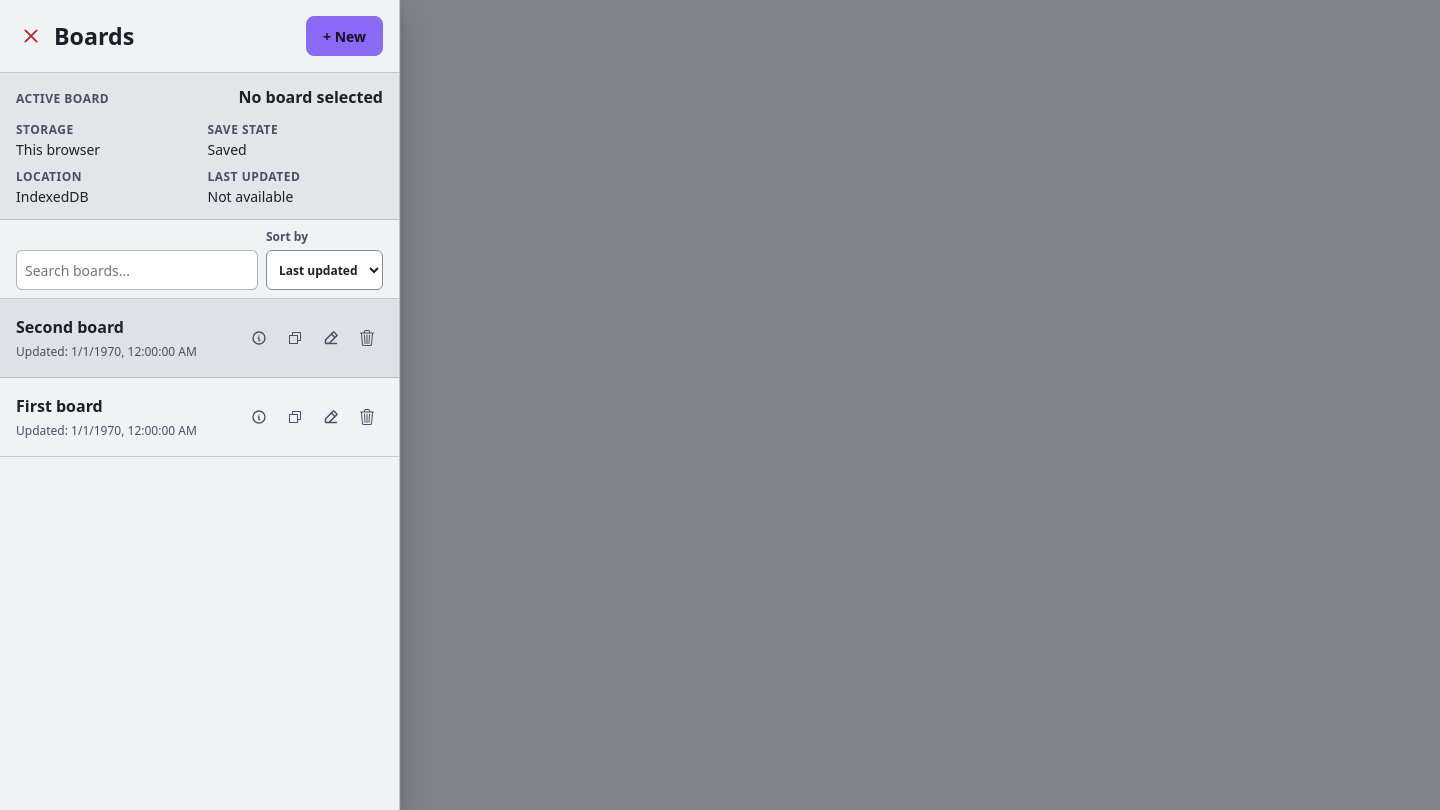
FileBrowser › shows action failures in the browser
This screenshot has width=1440, height=810.
Click the button with aria-label "Open Second board". click: (126, 338)
box: [16,307,235,369]
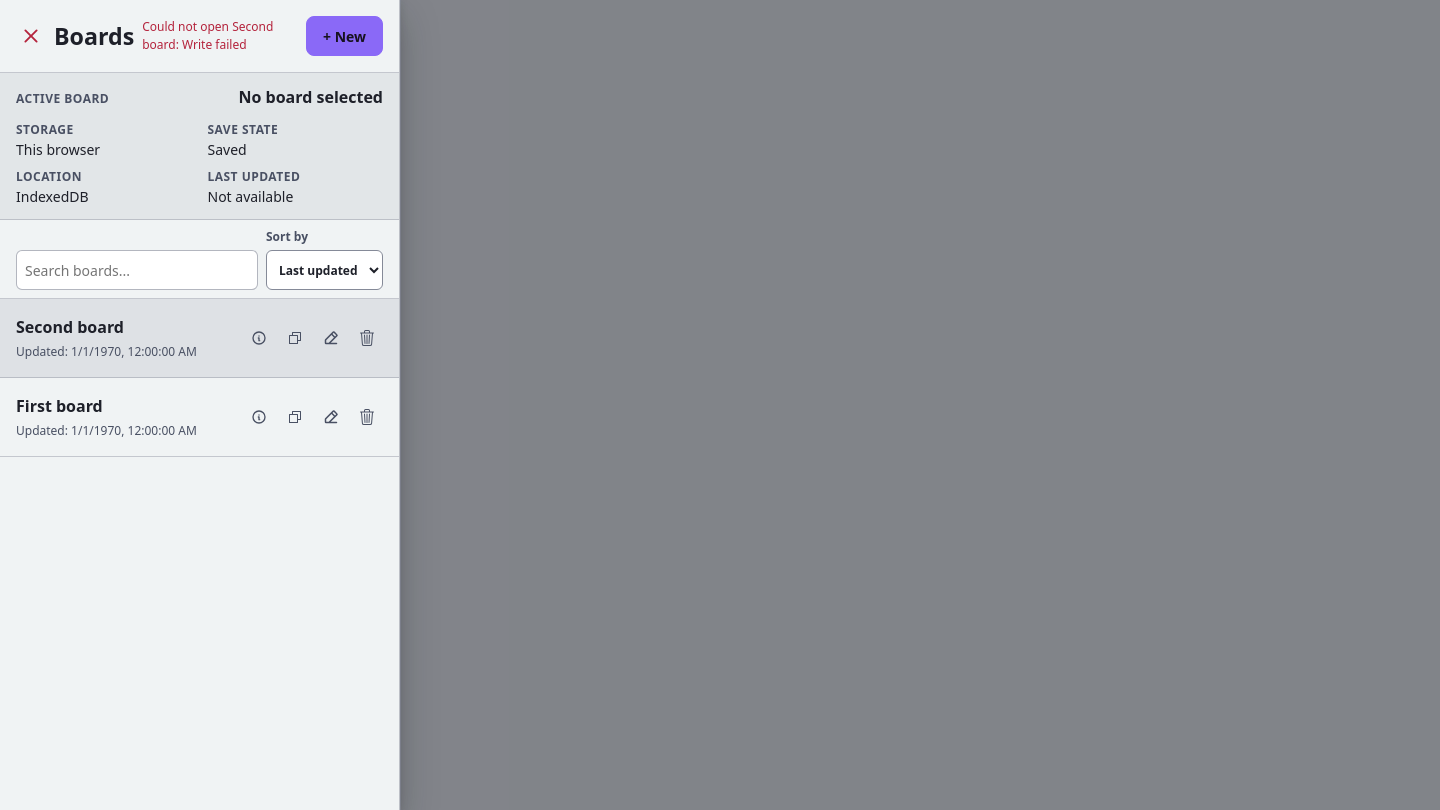
Result: the message reads "Could not open Second board: Write failed" at [142,18,273,53]
